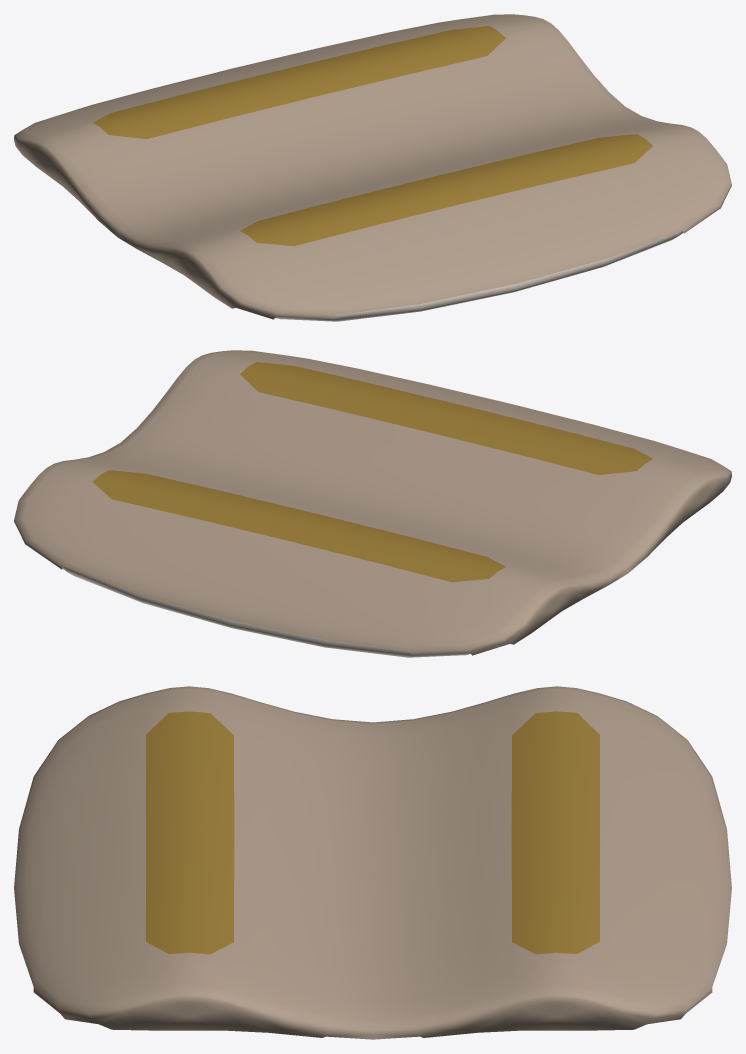
File: DirtPatch.fbx
3 renders of one model, top to bottom at view 1: azimuth 30°, elevation 25°; view 2: azimuth 150°, elevation 25°; view 3: azimuth 270°, elevation 25°, orthographic. The views are drawn at different scales.
Visible parts, largest first — view 1: WetLand, DryLand; view 2: WetLand, DryLand; view 3: WetLand.
Boxes of the visible parts, x1=… form: WetLand: x1=14, y1=14, x2=731, y2=319; DryLand: x1=275, y1=230, x2=683, y2=321; WetLand: x1=14, y1=350, x2=731, y2=655; DryLand: x1=62, y1=566, x2=470, y2=657; WetLand: x1=14, y1=686, x2=731, y2=1039.
Bounding box in the file's own units: 99.71 × 11.86 × 97.34.
